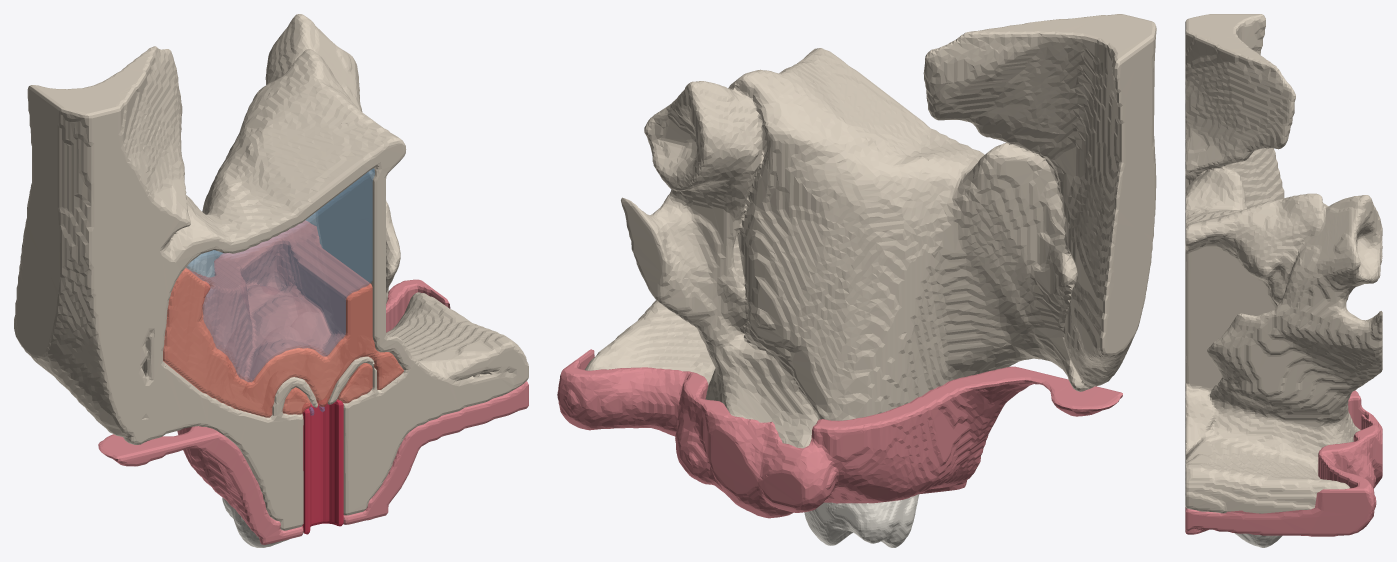
File: oaf.glb
The picture shows the model from 3 angles, left to right: view 1: azimuth 30°, elevation 25°; view 2: azimuth 150°, elevation 25°; view 3: azimuth 270°, elevation 25°; orthographic projection. The views are drawn at different scales.
Parts seen in each view (by area): view 1: bone, lining, sinus, gum, tract, teeth; view 2: bone, gum, teeth; view 3: bone, gum, teeth.
Boxes of the visible parts, x1,y1,x2,y2 form: bone: [14, 14, 528, 530]; lining: [163, 220, 403, 417]; sinus: [186, 168, 374, 415]; gum: [98, 279, 528, 544]; tract: [302, 399, 343, 534]; teeth: [222, 497, 303, 547]; bone: [585, 14, 1156, 448]; gum: [557, 349, 1122, 518]; teeth: [804, 494, 919, 547]; bone: [1185, 14, 1382, 513]; gum: [1185, 390, 1382, 536]; teeth: [1234, 533, 1282, 547].
Bounding box in the file's own units: 0.051 × 0.0547 × 0.023.
